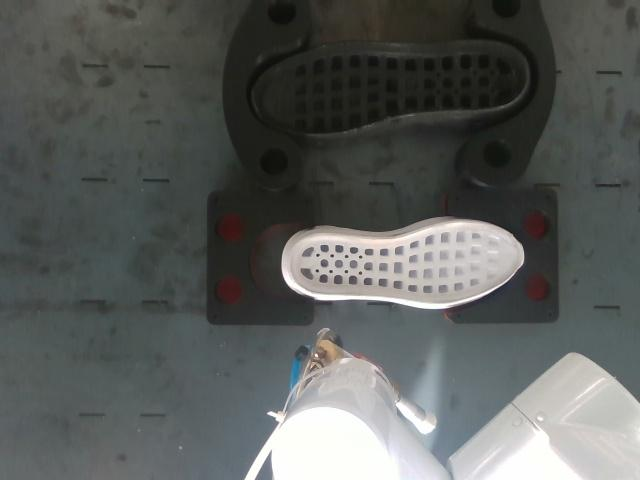shoes: (252, 40, 528, 135), (289, 223, 523, 304)
